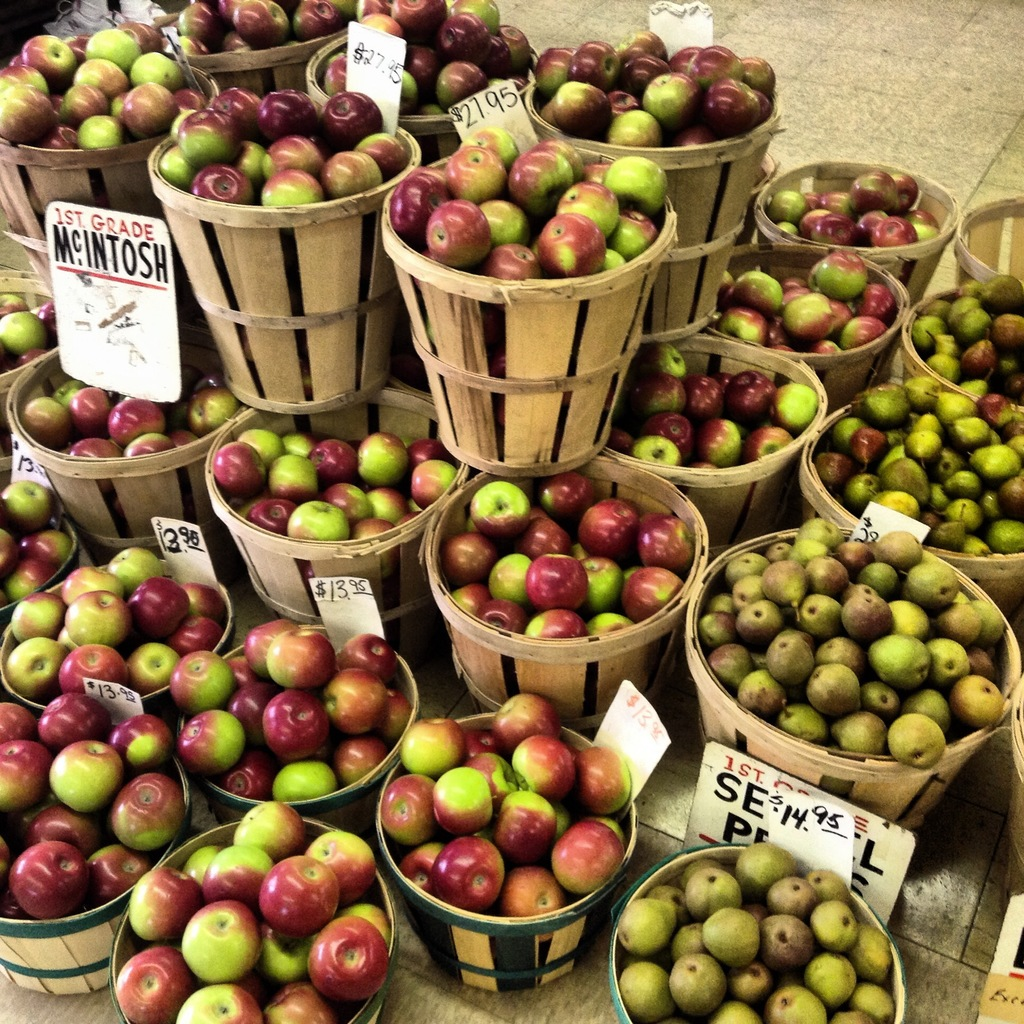Apple: (0, 474, 632, 1023), (385, 126, 672, 429), (695, 516, 1007, 770), (816, 270, 1023, 549), (613, 842, 893, 1023), (440, 469, 692, 635), (209, 424, 454, 581), (18, 371, 242, 520), (158, 84, 405, 205), (535, 28, 774, 147), (600, 345, 816, 469), (0, 16, 202, 147), (323, 0, 531, 109), (711, 250, 895, 350), (769, 168, 942, 250), (167, 0, 356, 53), (431, 835, 502, 908), (0, 310, 44, 352), (30, 301, 55, 332), (0, 289, 25, 319), (18, 345, 46, 364)
